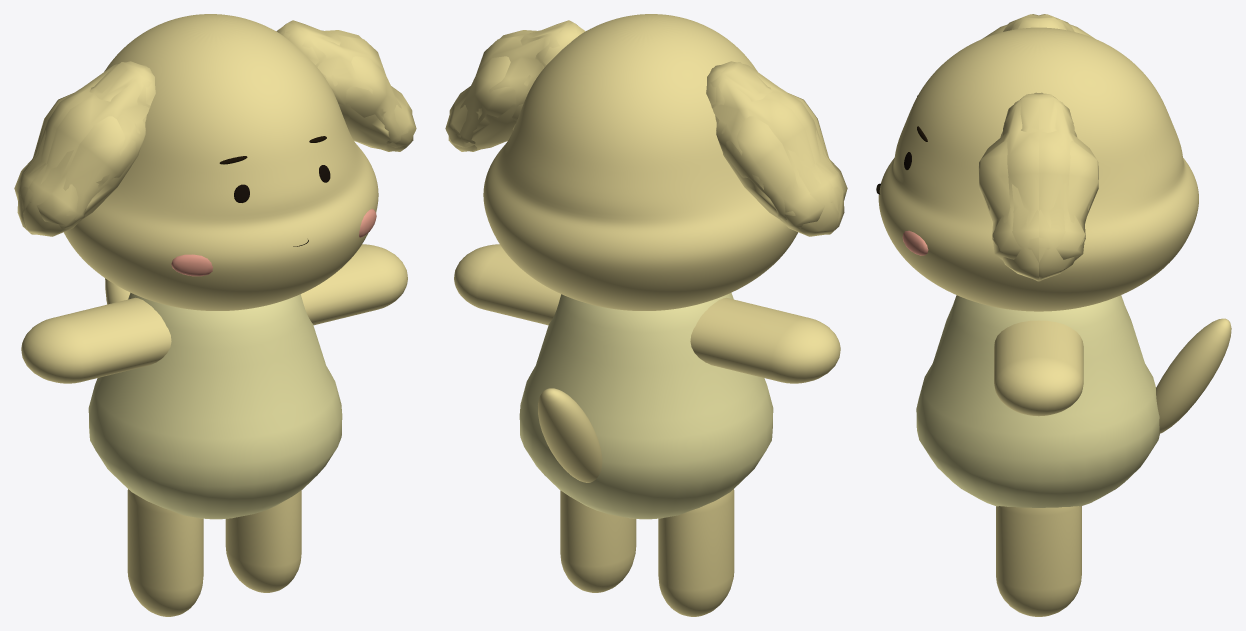
The model's file is mycharater.gltf.
The picture shows the model from 3 angles, left to right: view 1: azimuth 30°, elevation 25°; view 2: azimuth 150°, elevation 25°; view 3: azimuth 270°, elevation 25°; orthographic projection. The views are drawn at different scales.
Parts seen in each view (by area): view 1: face, tail; view 2: face, tail; view 3: face, tail.
Boxes of the visible parts, left/top/right/bottom form: face: left=14, top=14, right=416, bottom=310; tail: left=21, top=244, right=407, bottom=616; face: left=445, top=14, right=847, bottom=310; tail: left=454, top=244, right=840, bottom=616; face: left=876, top=14, right=1198, bottom=311; tail: left=916, top=295, right=1231, bottom=616.
Size of the model in its own units: 2.64 by 3.76 by 2.18.
